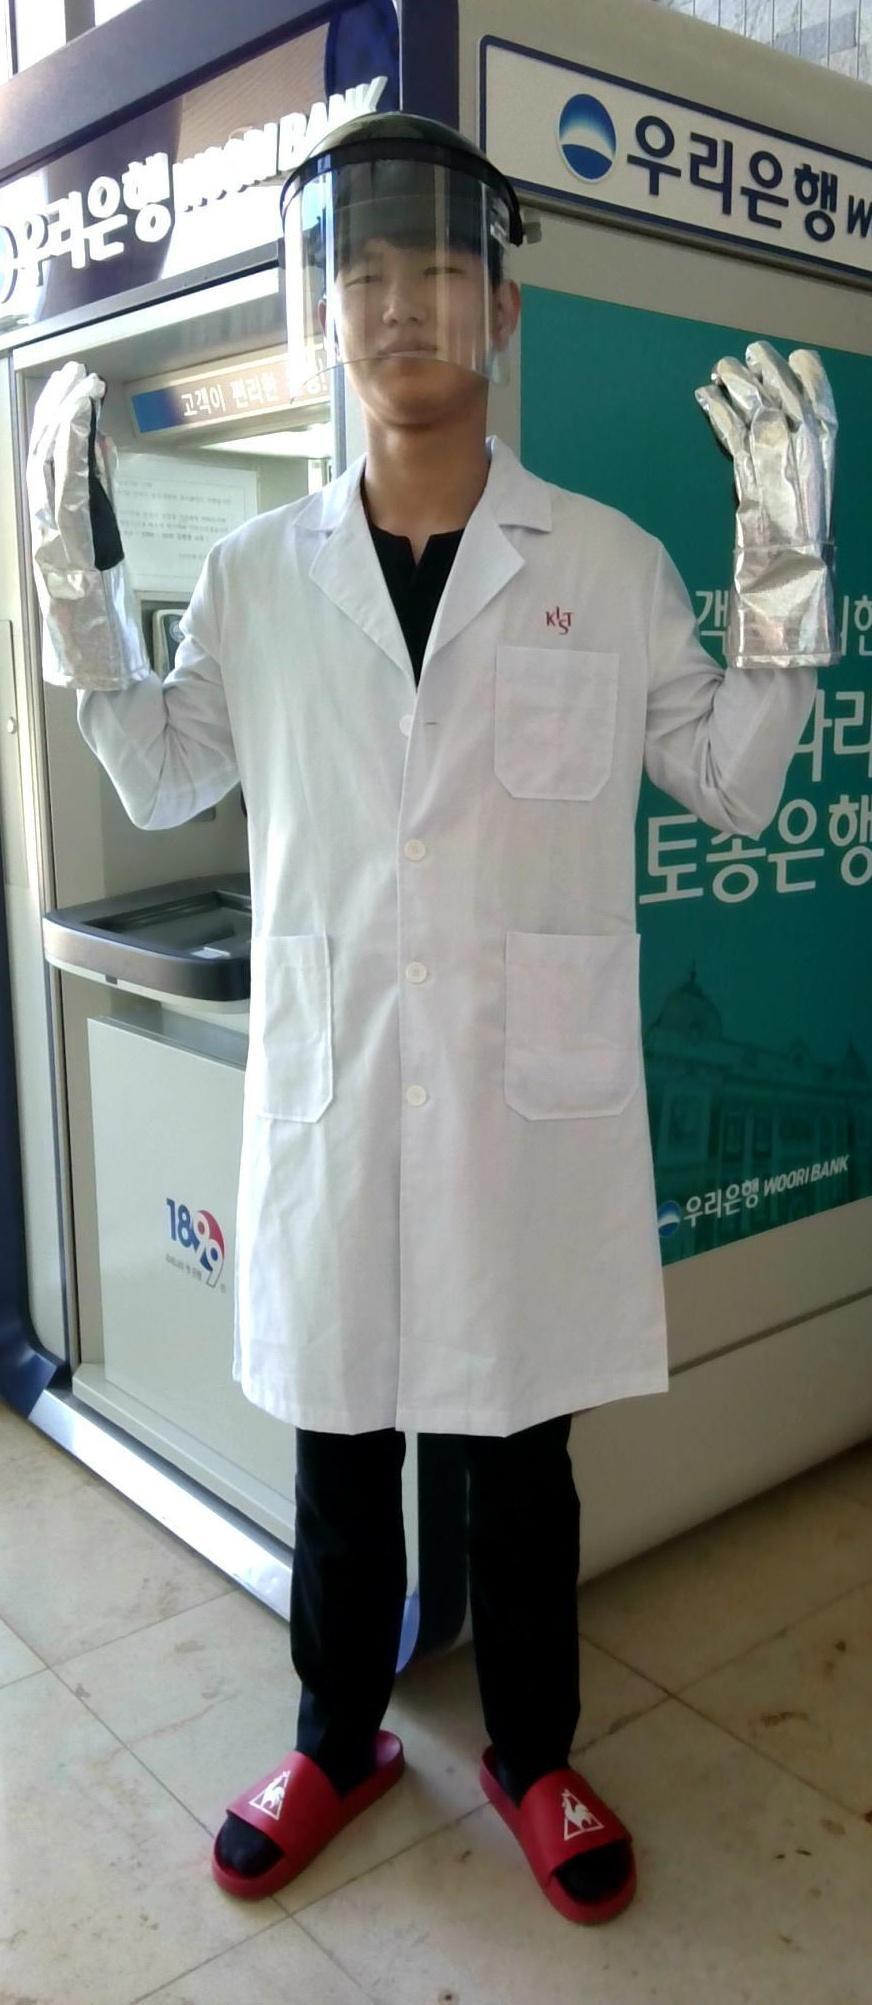lab_coat: (161, 556, 681, 1417)
